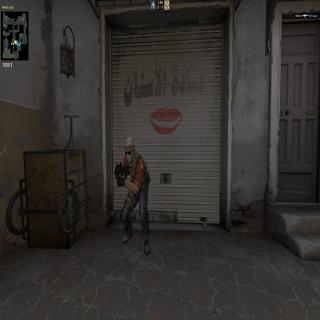T-Head: (124, 135, 136, 164)
